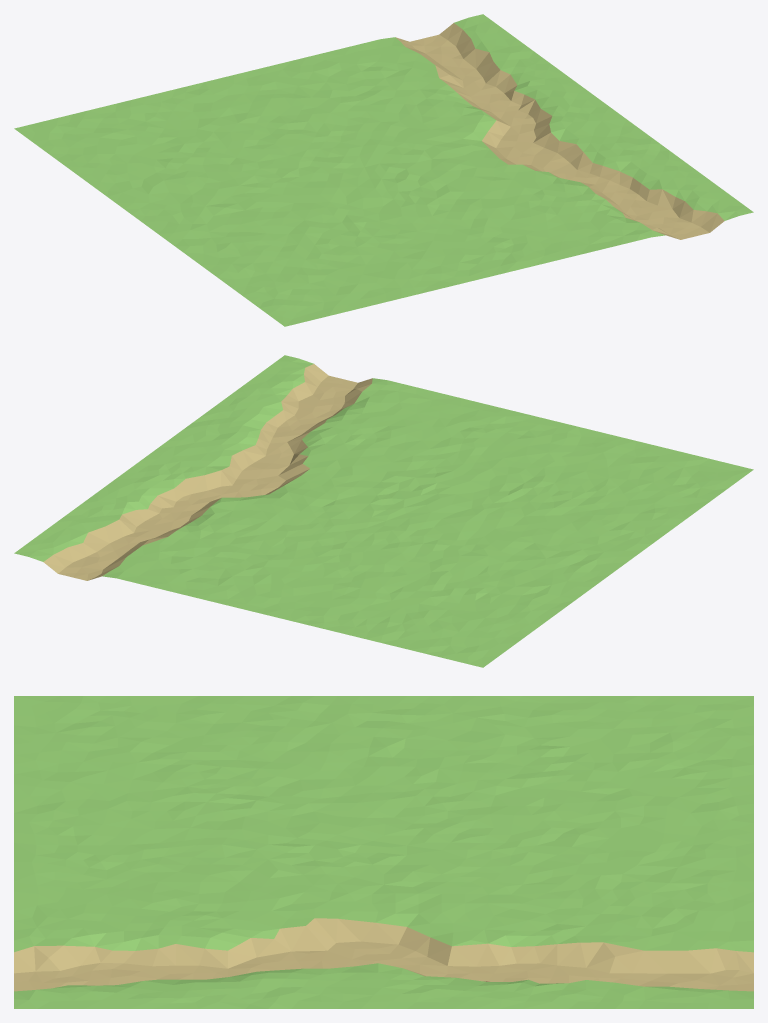
The model's file is Terrain_01.FBX.
The picture shows the model from 3 angles, top to bottom: view 1: azimuth 30°, elevation 25°; view 2: azimuth 150°, elevation 25°; view 3: azimuth 270°, elevation 25°; orthographic projection. The views are drawn at different scales.
Visible parts, largest first — view 1: CPT_River_L_a_01_R_LOD0; view 2: CPT_River_L_a_01_R_LOD0; view 3: CPT_River_L_a_01_R_LOD0.
Part boxes in pixels (<box>): CPT_River_L_a_01_R_LOD0: <box>14,14,753,326</box>; CPT_River_L_a_01_R_LOD0: <box>14,355,753,667</box>; CPT_River_L_a_01_R_LOD0: <box>14,696,753,1008</box>.
Size of the model in its own units: 10000 by 220 by 10000.
